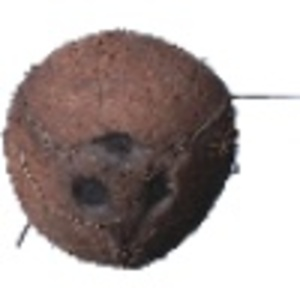coco: (3, 30, 300, 268)
